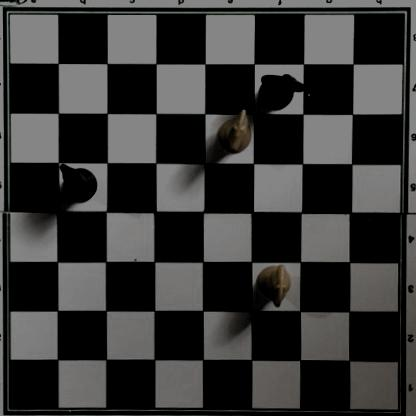black-knight: (257, 70, 306, 109), (58, 163, 99, 203)
white-knight: (216, 108, 257, 154), (257, 264, 292, 309)
